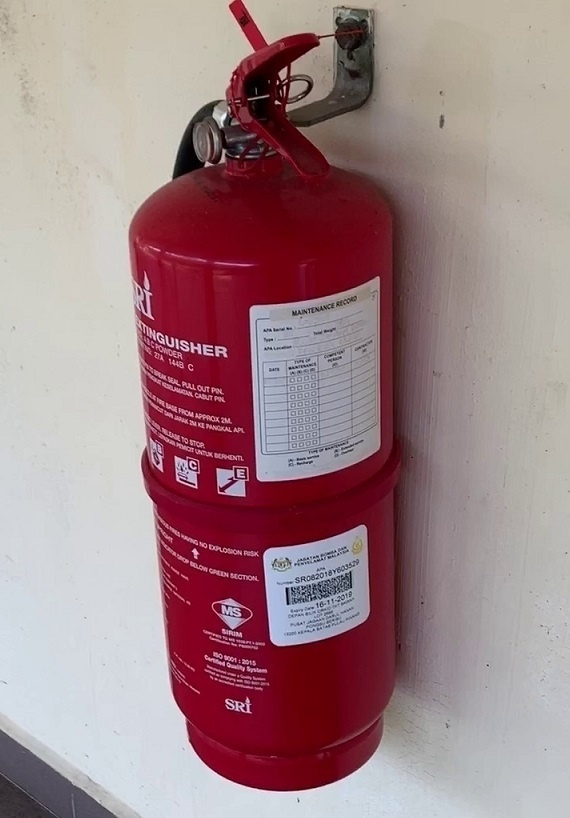fire_extinguisher: (128, 1, 403, 792)
